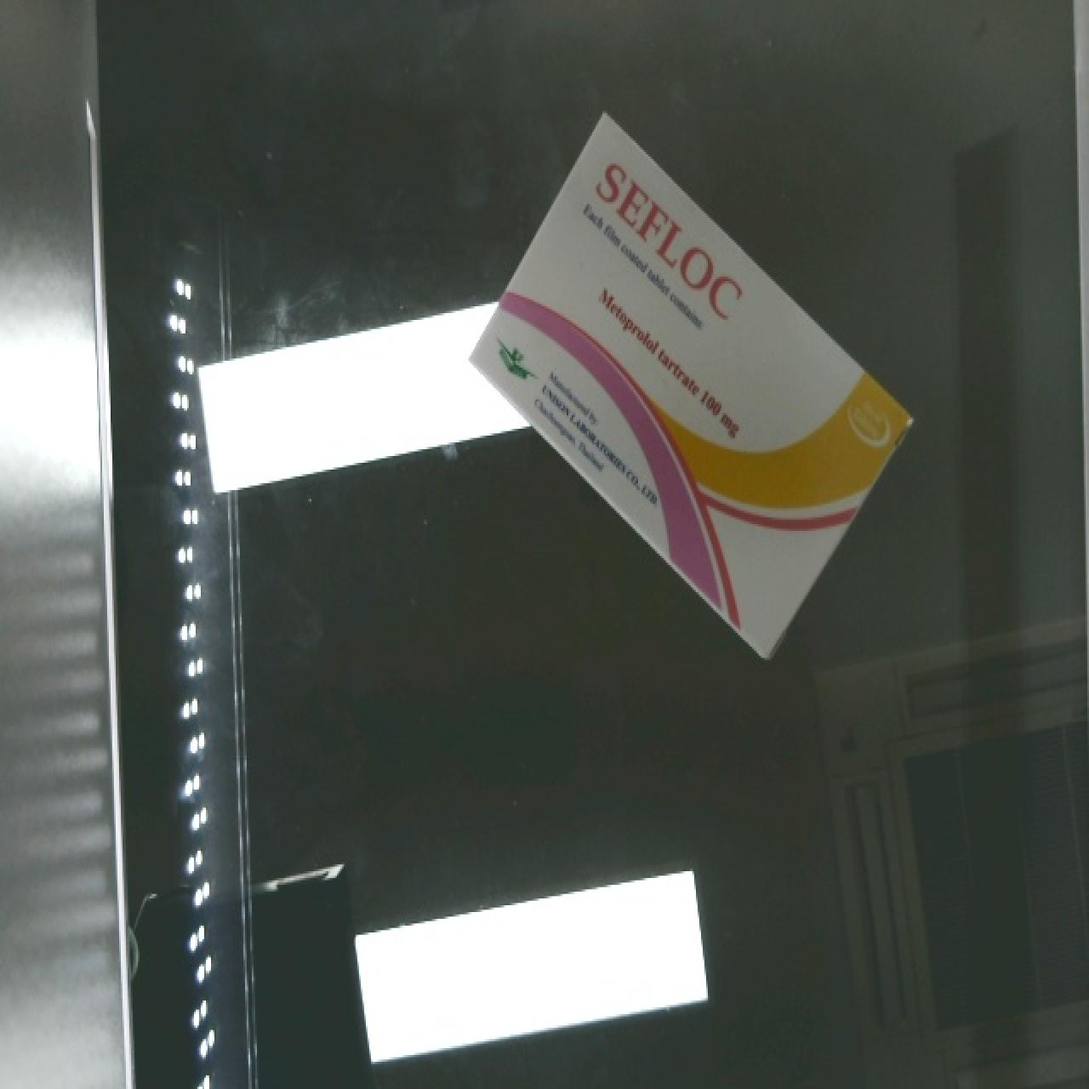medicine_label_obb: (547, 120, 788, 358)
